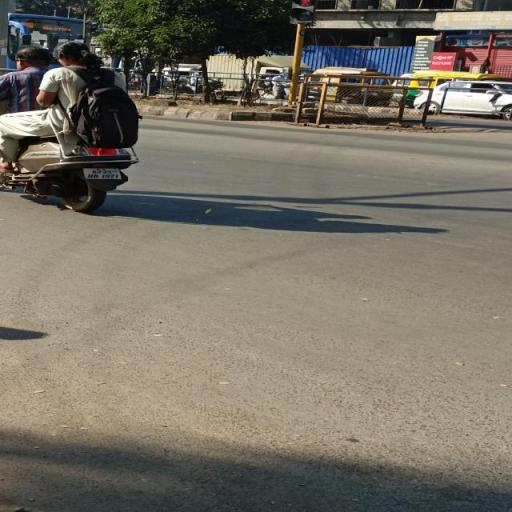bike: (0, 32, 160, 211)
numberplate: (84, 167, 122, 180)
withouthelmet: (58, 42, 92, 64), (16, 50, 50, 68)
